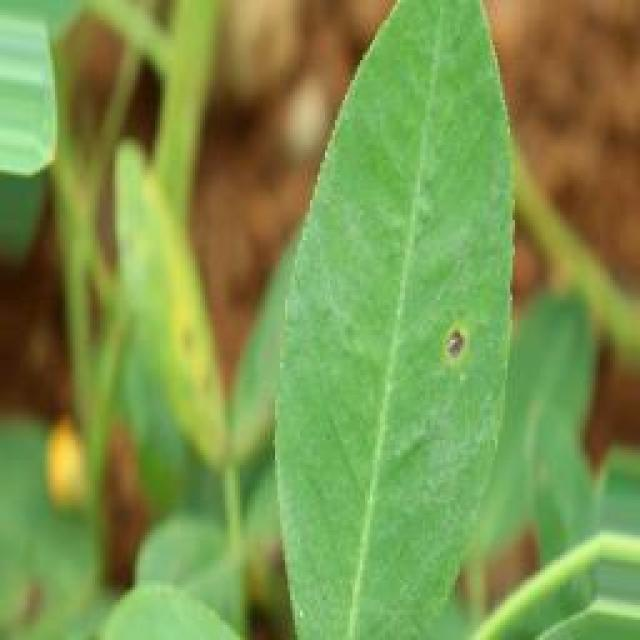Sigatoka: (418, 293, 497, 394)
